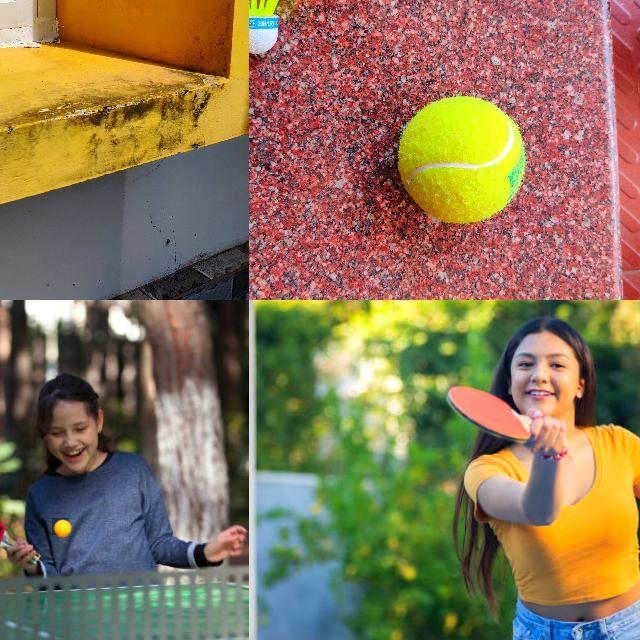ping-pong-ball: (52, 518, 70, 536)
